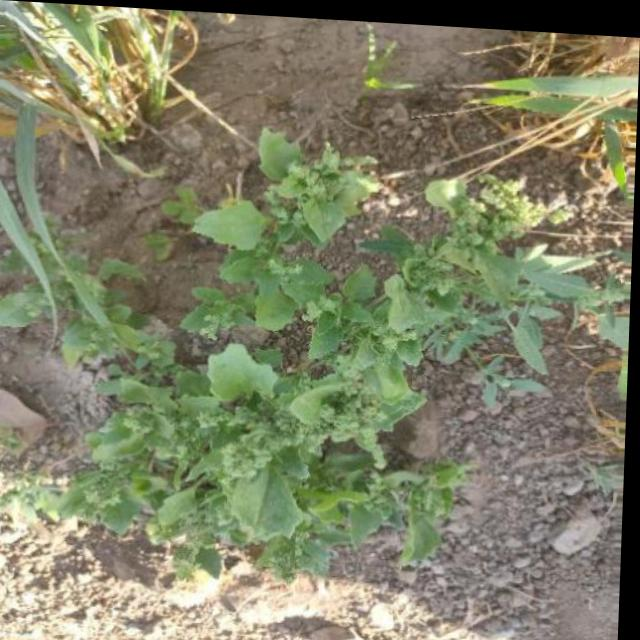weed: (26, 157, 622, 596), (0, 6, 210, 170)
